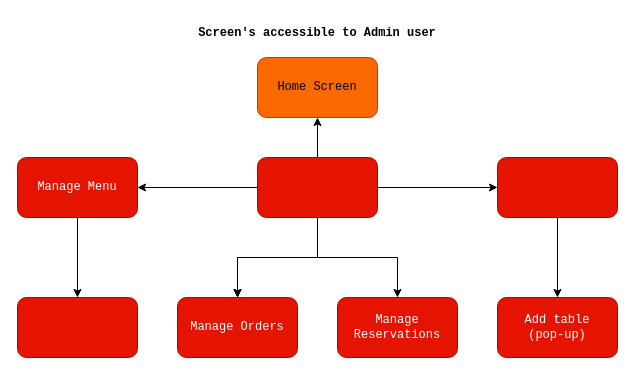
Image size: 635x375. Some labels were removed from this diagram. The shapes that lost their labels are listed below. From the top down, each one's box as (x1, y1, x2, y2) in pixels, then its label:
(256, 156, 378, 218): Admin panel
(496, 156, 618, 218): Manage Tables
(16, 296, 138, 358): Add menu item (pop-up)
